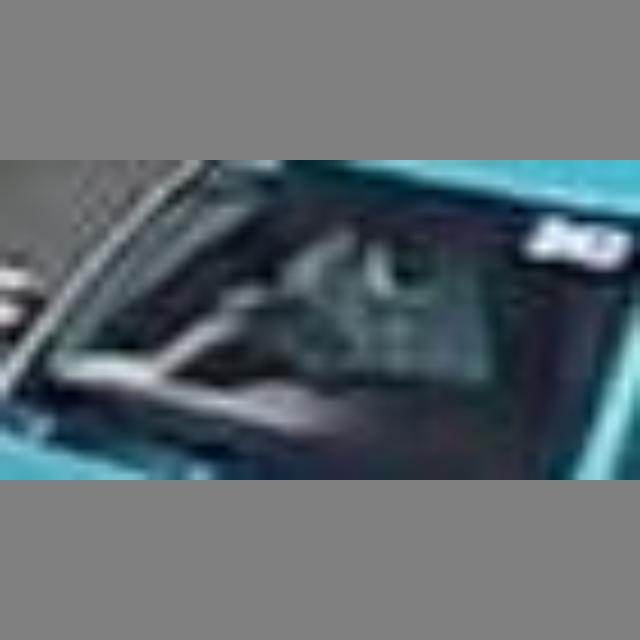tidak-pakai: (265, 233, 503, 416)
